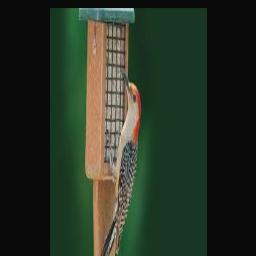Woodpecker: (100, 68, 141, 256)
